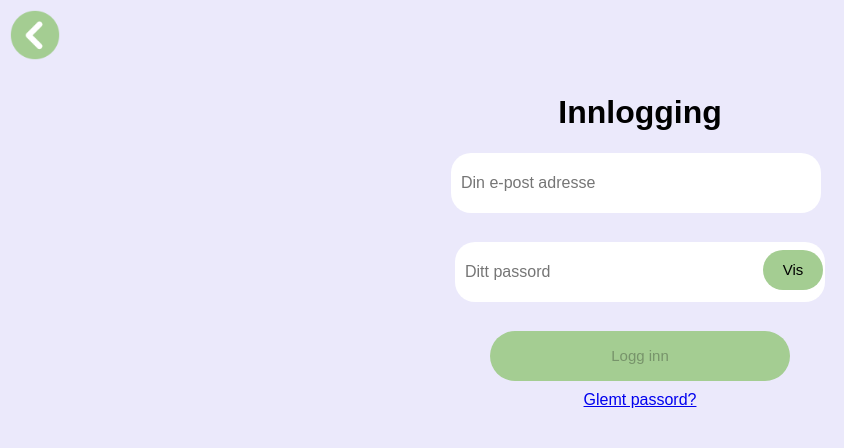
it: Login form › displays error message for missing password
The image size is (844, 448).
Type "validpassword" into the password field named "password" at (640, 272), box [455,242,825,302]
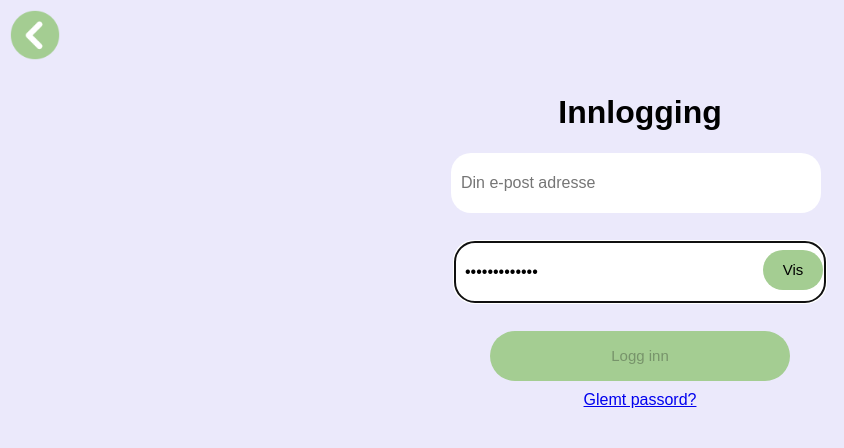
Clear the password field named "password" at (640, 272), box [455,242,825,302]
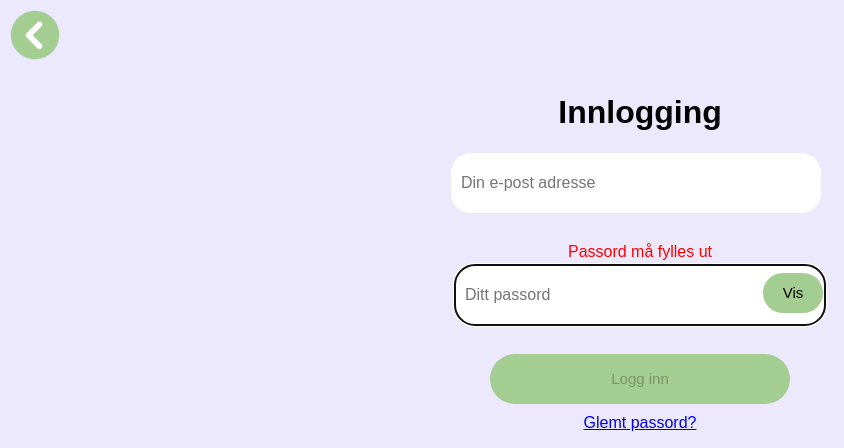
Expected: the text "Passord må fylles ut" is shown, [568,243,712,260]
